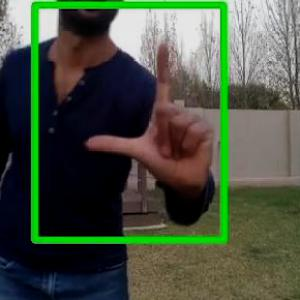land_hand: (81, 37, 220, 198)
